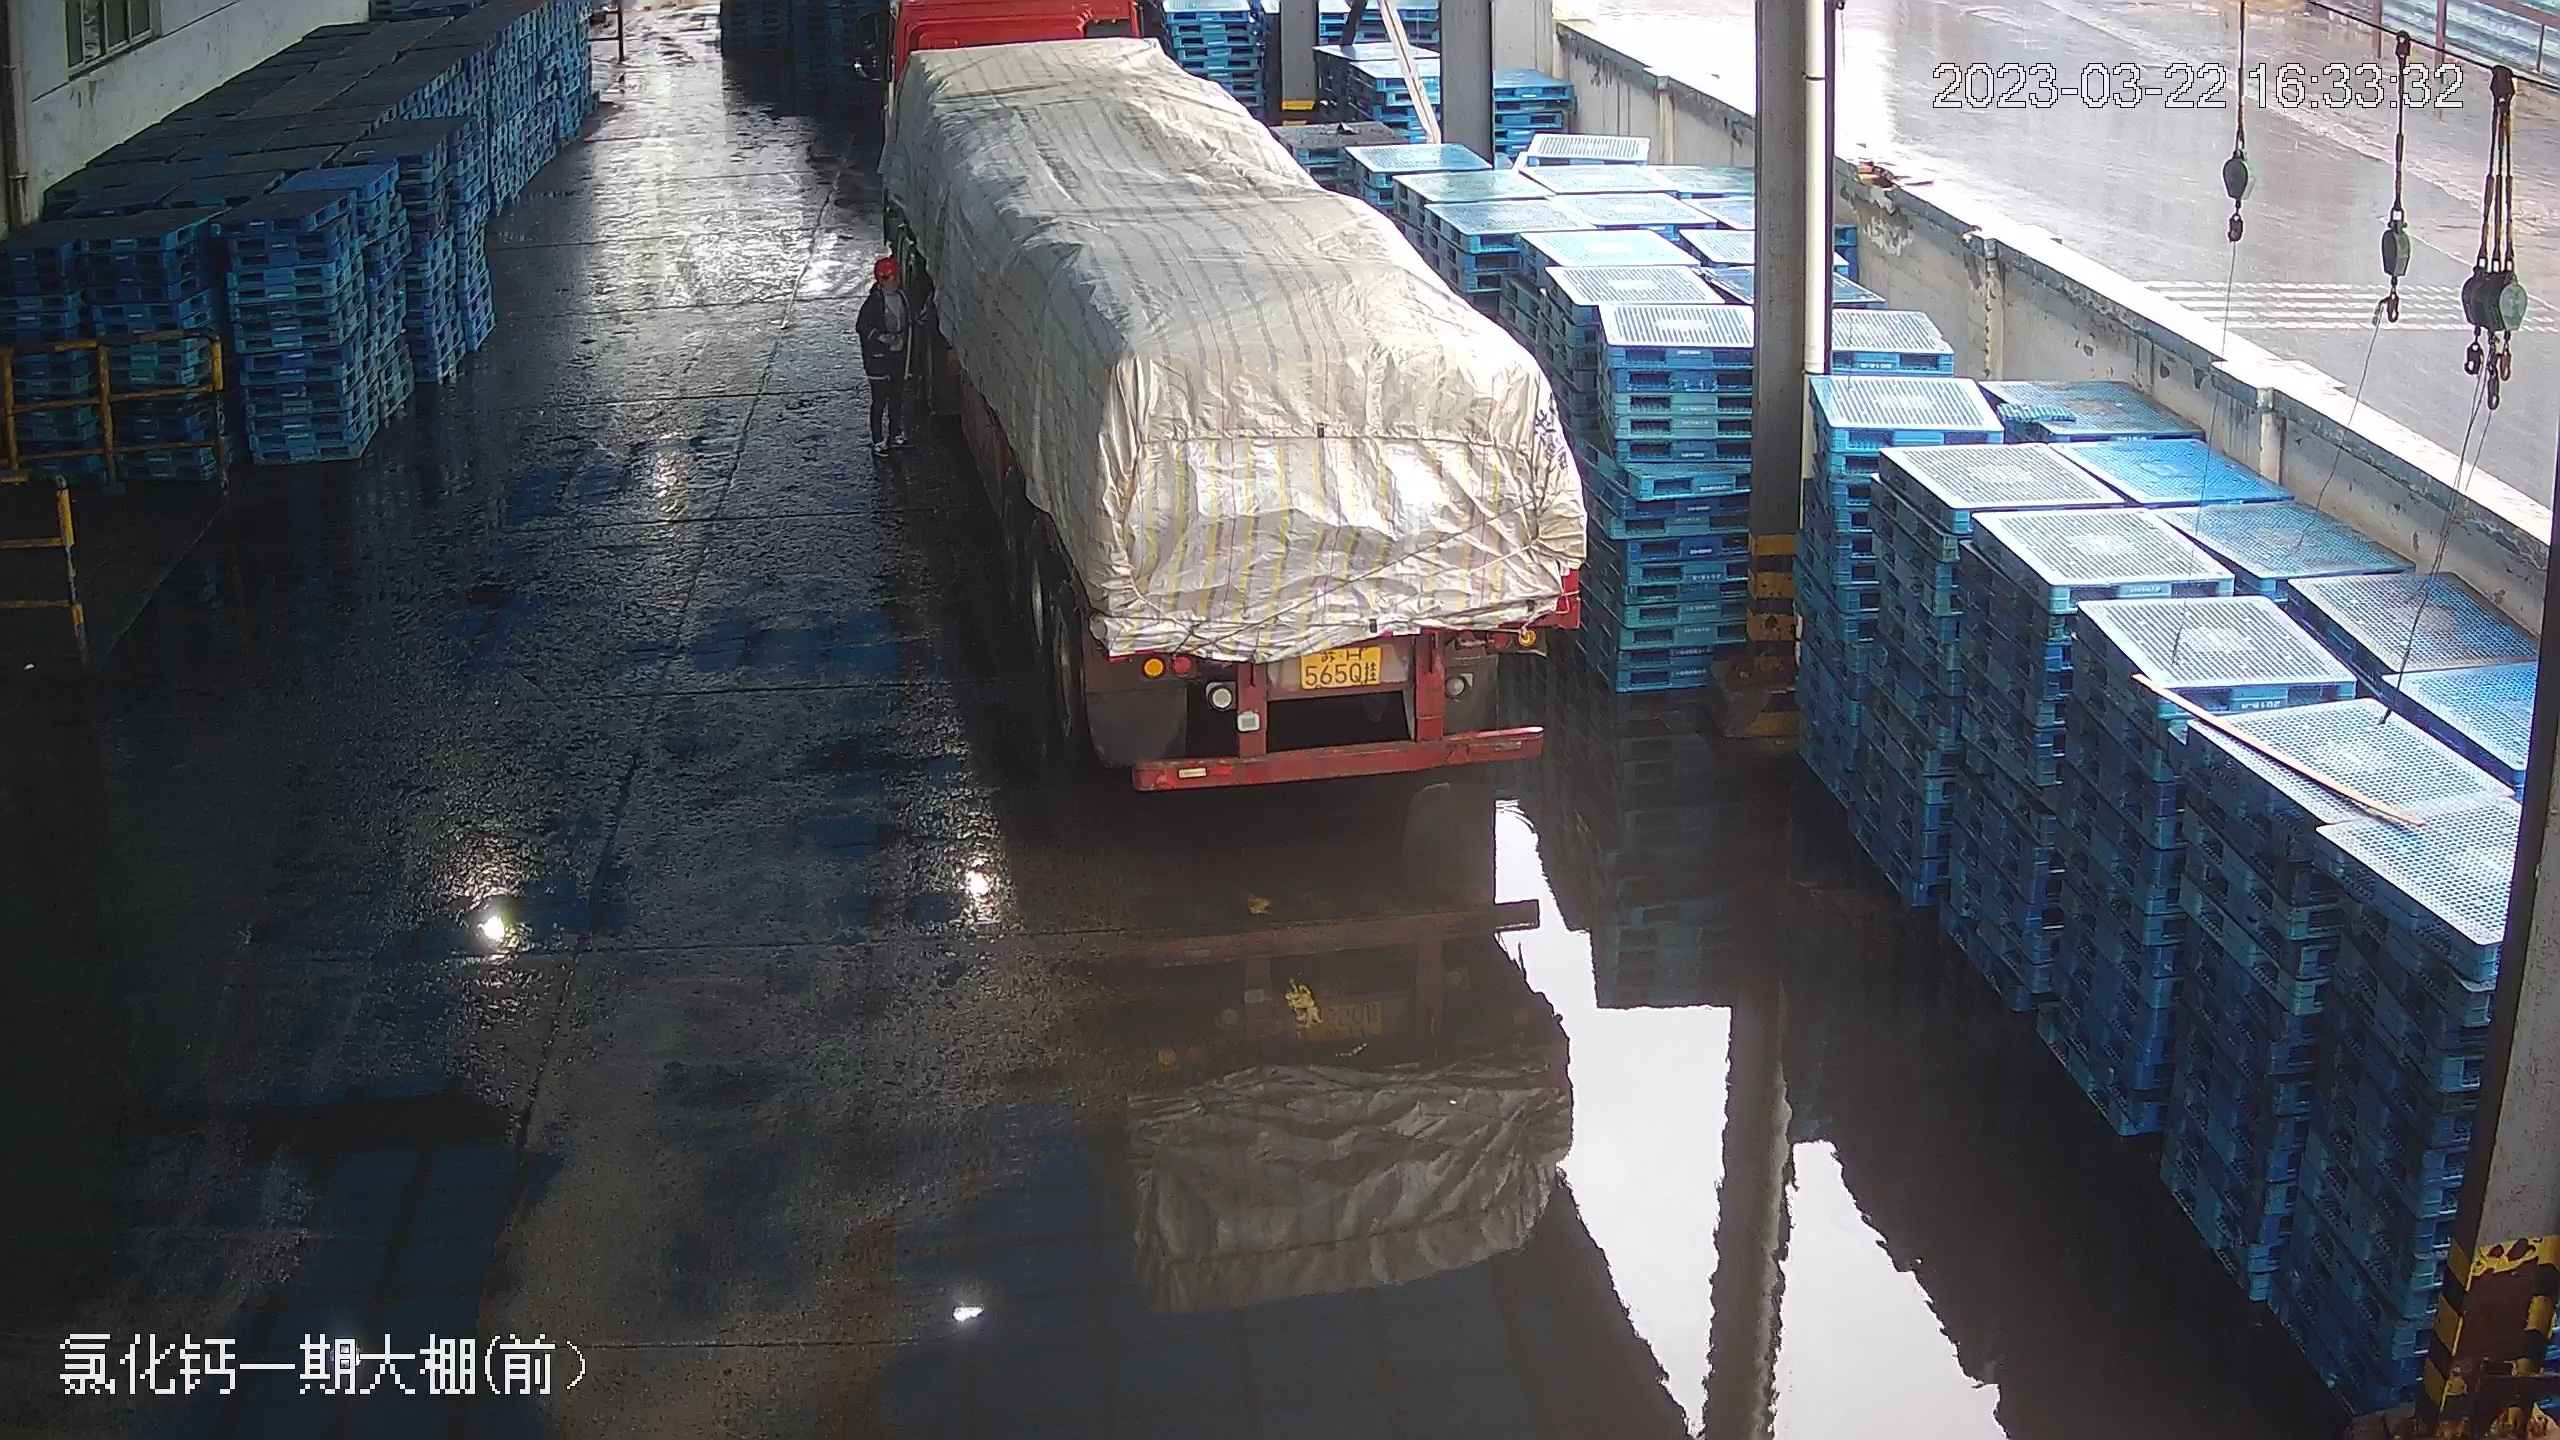head: (857, 251, 911, 318)
helmet: (870, 251, 900, 277)
people: (854, 249, 924, 458)
truck: (864, 8, 1627, 810)
